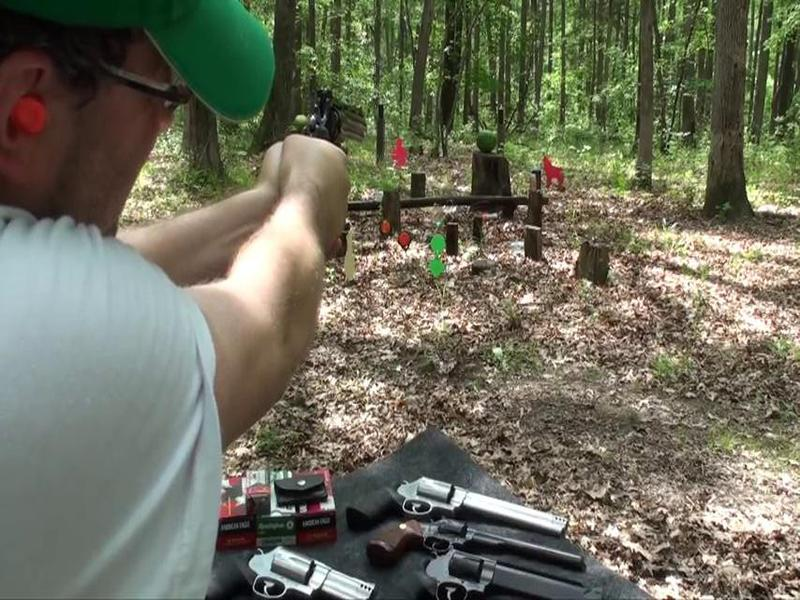Revolver: (296, 74, 387, 150)
